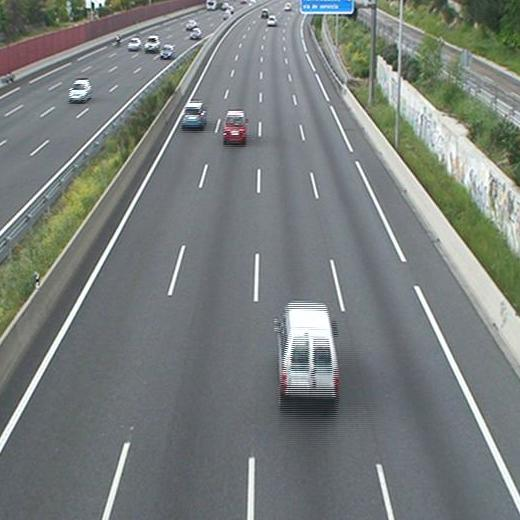car: (222, 111, 248, 146), (182, 102, 207, 128)
van: (279, 300, 339, 412)
